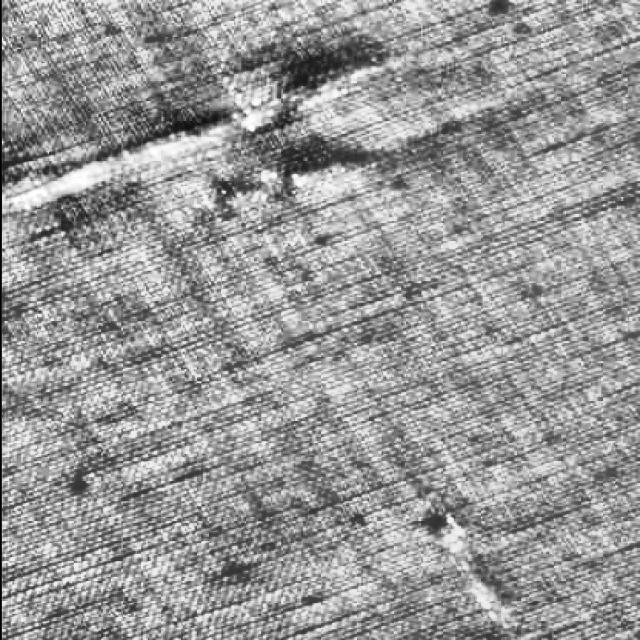thread_error: (7, 41, 408, 220), (420, 481, 542, 640), (222, 145, 394, 218)
